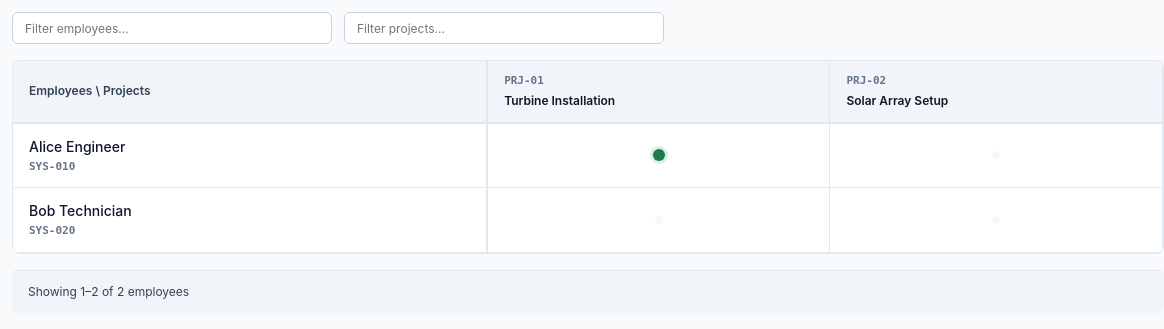
Test: AssignmentMatrix › filters rows by employee search term
Type "Alice" into the field with test id "matrix-employee-filter" at (172, 28), box [12,12,332,44]
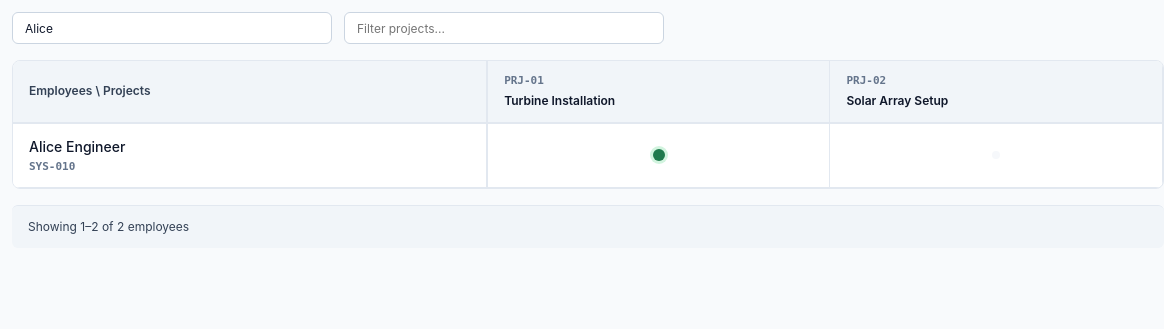
Expected: the row with test id "matrix-row-10" is shown, [13,124,1163,188]
Now the row with test id "matrix-row-20" is gone
